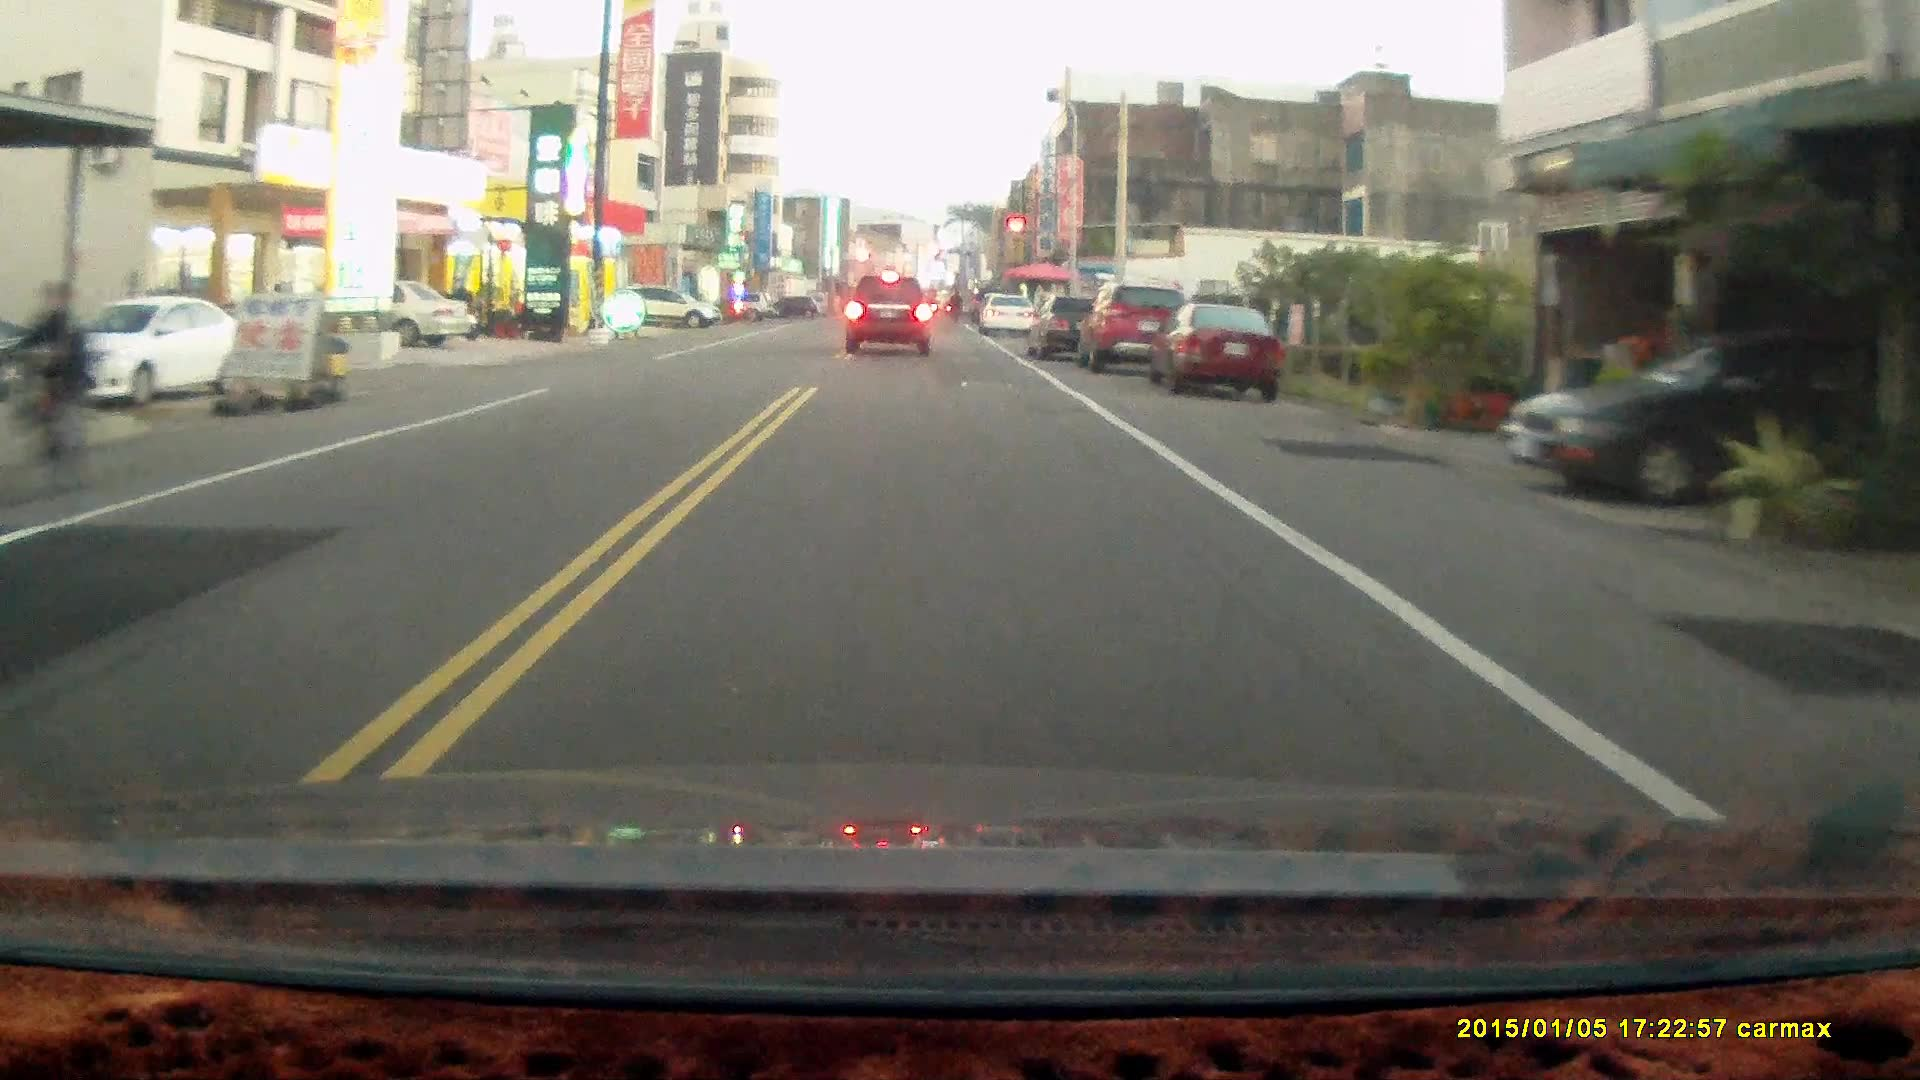rider: (4, 281, 97, 525)
vehicle: (1500, 324, 1920, 505), (29, 297, 258, 408), (1144, 300, 1290, 401), (296, 280, 474, 354), (1081, 279, 1193, 374), (844, 276, 933, 360), (1027, 292, 1128, 359), (624, 288, 719, 333), (978, 292, 1038, 340)
